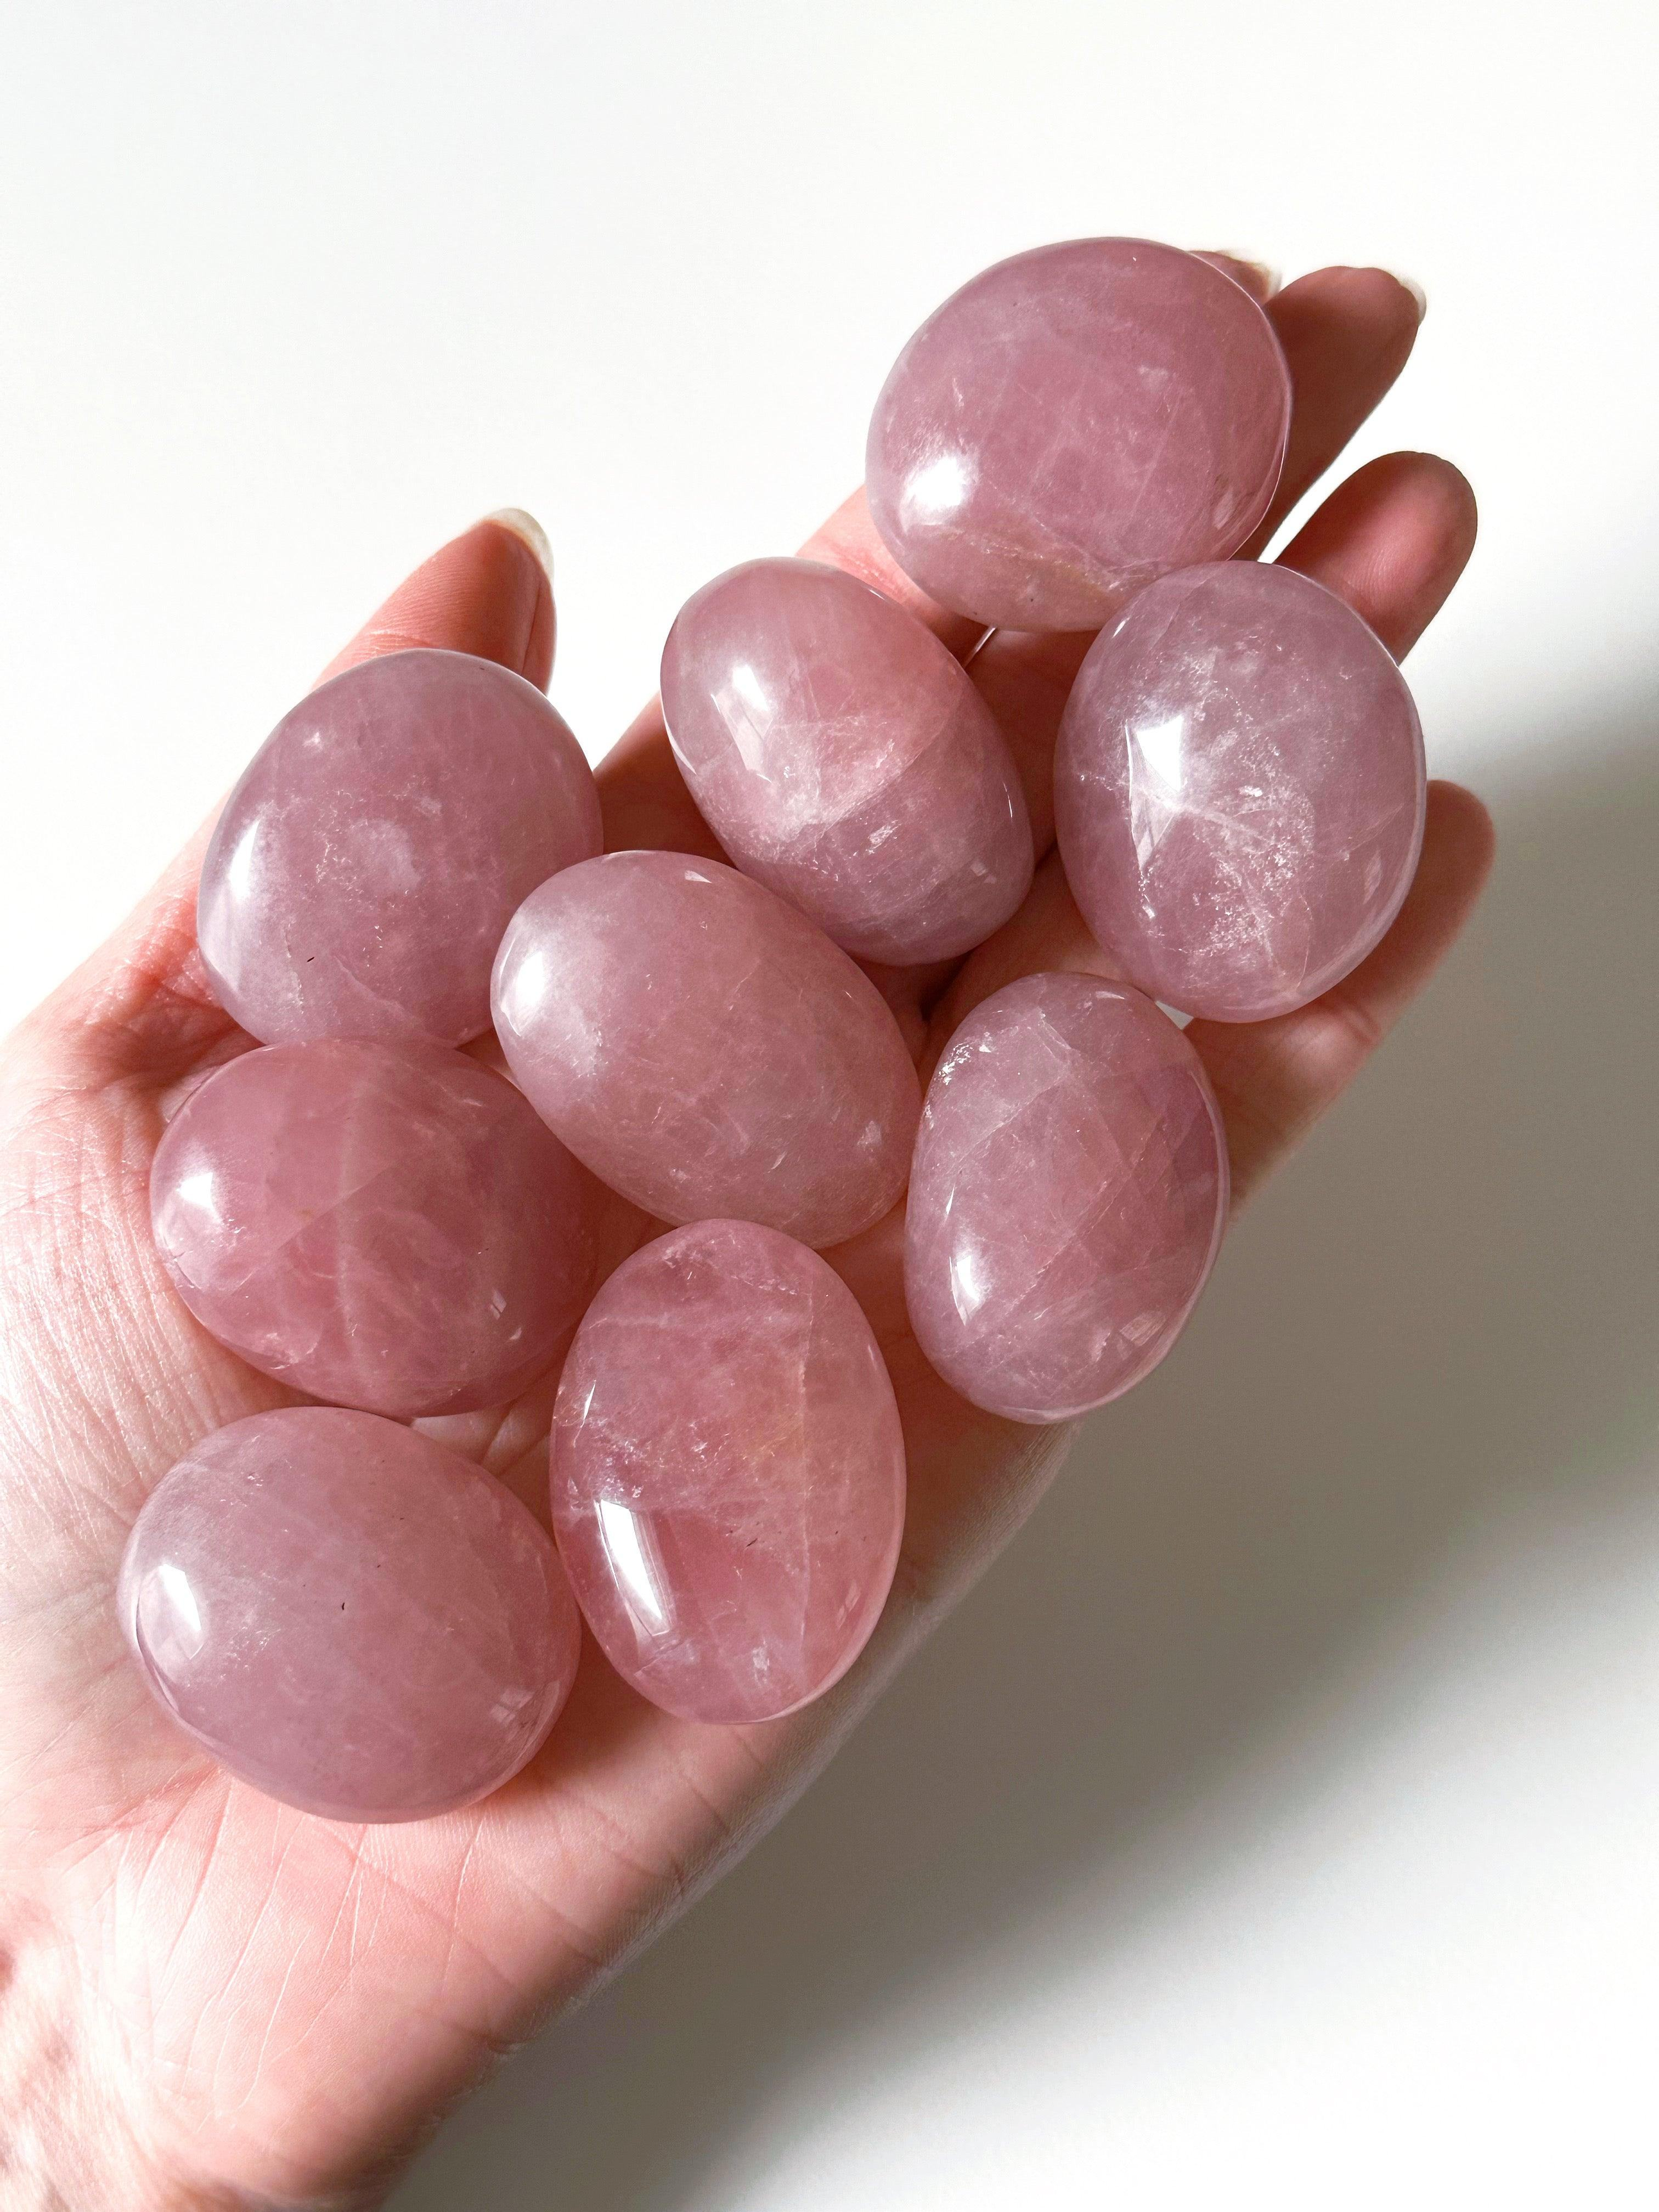Rose_Quartz: (521, 221, 1358, 1731), (119, 648, 619, 1825)
